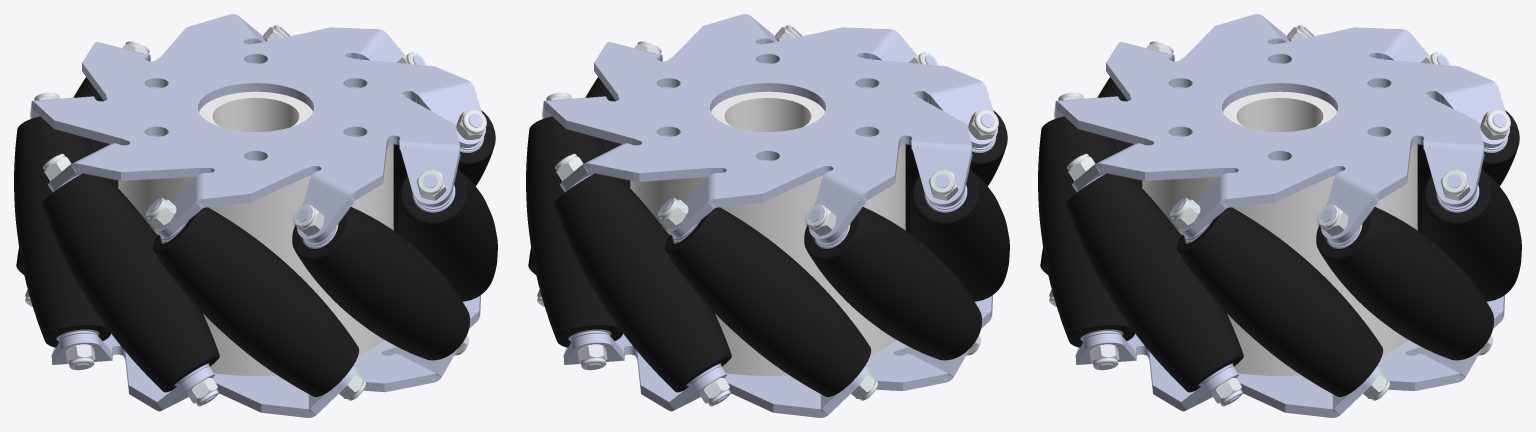
The model's file is Nexus 100mm Right Mecanum Wheel v1.fbx.
The picture shows the model from 3 angles, left to right: view 1: azimuth 30°, elevation 25°; view 2: azimuth 150°, elevation 25°; view 3: azimuth 270°, elevation 25°; orthographic projection.
Parts seen in each view (by area): view 1: Body1 (×16), Body4 (×2), Body2, Body3; view 2: Body1 (×16), Body4 (×2), Body2, Body3; view 3: Body1 (×16), Body4 (×2), Body2, Body3.
Boxes of the visible parts, left/top/right/bottom form: Body1 (×16): left=14, top=62, right=497, bottom=406; Body4 (×2): left=26, top=14, right=485, bottom=417; Body2: left=188, top=79, right=323, bottom=135; Body3: left=178, top=75, right=333, bottom=140; Body1 (×16): left=526, top=62, right=1009, bottom=406; Body4 (×2): left=538, top=14, right=997, bottom=417; Body2: left=700, top=79, right=835, bottom=135; Body3: left=690, top=75, right=845, bottom=140; Body1 (×16): left=1038, top=62, right=1521, bottom=406; Body4 (×2): left=1050, top=14, right=1509, bottom=417; Body2: left=1212, top=79, right=1347, bottom=136; Body3: left=1202, top=75, right=1357, bottom=140.
Bounding box in the file's own units: 10.02 × 5 × 10.01.
